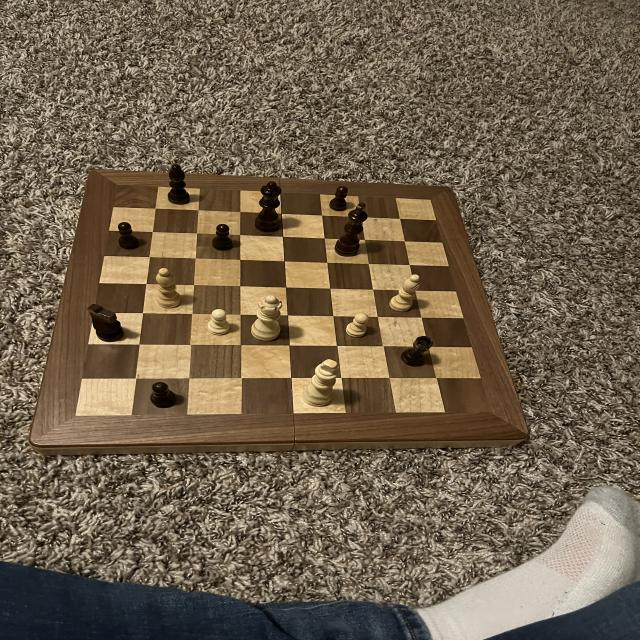bishop: (164, 162, 193, 207)
black-bishop: (329, 201, 373, 259)
black-king: (85, 303, 128, 345)
black-knight: (148, 380, 178, 411), (115, 219, 142, 251), (210, 221, 237, 253), (328, 184, 353, 213)
black-pawn: (253, 178, 285, 235)
black-queen: (398, 334, 436, 371)
black-rook: (388, 274, 422, 314), (153, 266, 183, 311)
white-bishop: (299, 356, 343, 409)
white-knight: (206, 308, 234, 338), (345, 312, 371, 338)
white-pawn: (248, 292, 284, 345)
